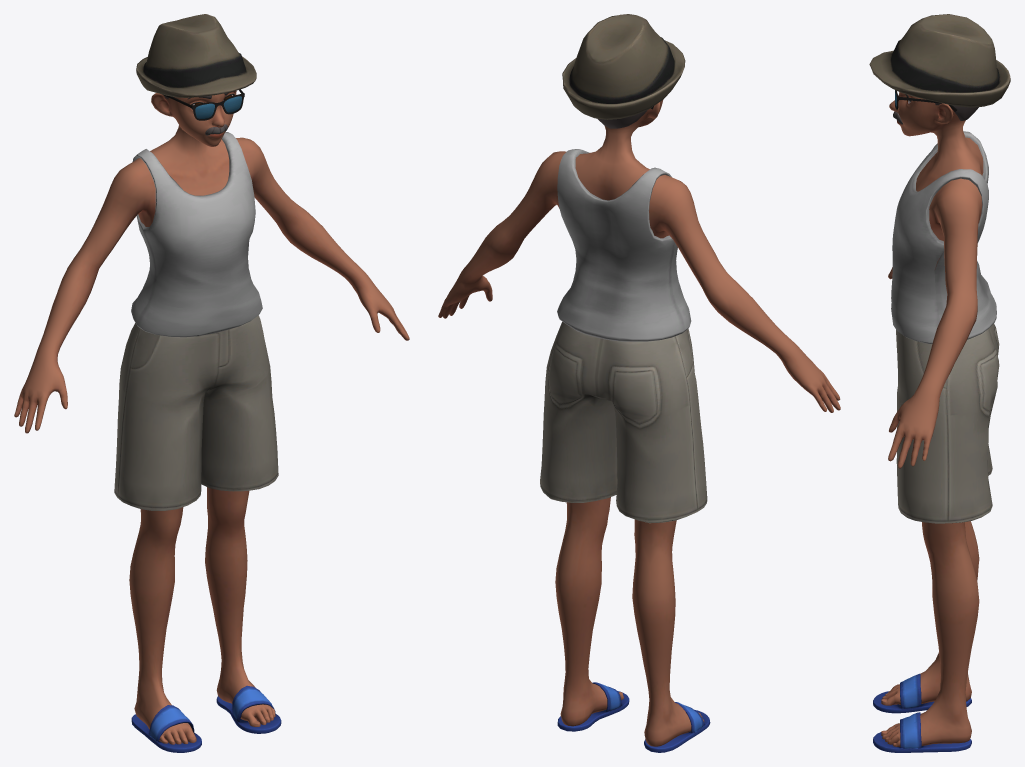
The model's file is Expatriate_Mesh.obj.
3 views of the same model, side by side, from view 1: azimuth 30°, elevation 25°; view 2: azimuth 150°, elevation 25°; view 3: azimuth 270°, elevation 25° (orthographic).
Parts seen in each view (by area): view 1: Expatriate_Mesh_0; view 2: Expatriate_Mesh_0; view 3: Expatriate_Mesh_0.
Part boxes in pixels (x1=…): Expatriate_Mesh_0: x1=14, y1=14, x2=409, y2=752; Expatriate_Mesh_0: x1=438, y1=14, x2=840, y2=752; Expatriate_Mesh_0: x1=869, y1=14, x2=1010, y2=752.
Size of the model in its own units: 1.06 by 1.82 by 0.333.
1 material, 1 textured.
